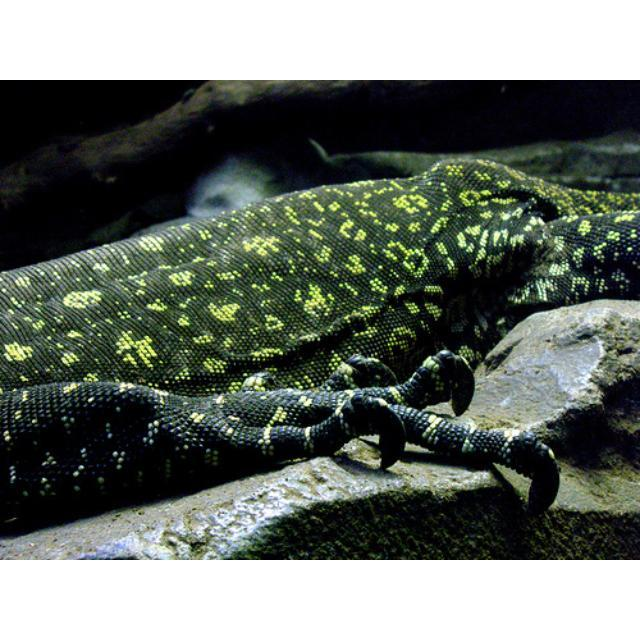KomodoDragon: (0, 157, 636, 515)
